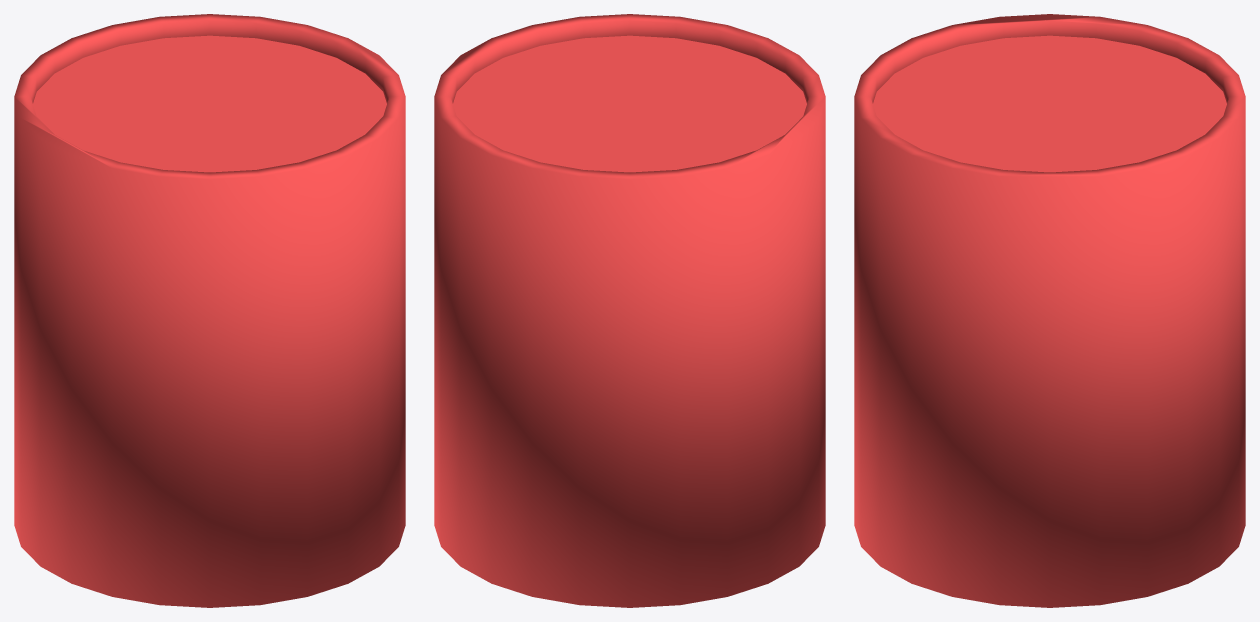
File: glass.dae
3 views of the same model, side by side, from view 1: azimuth 30°, elevation 25°; view 2: azimuth 150°, elevation 25°; view 3: azimuth 270°, elevation 25° (orthographic).
Visible parts, largest first — view 1: glass_of_soda (×3); view 2: glass_of_soda (×3); view 3: glass_of_soda (×3).
Part boxes in pixels (x1,y1,x2,y2): glass_of_soda (×3): [14, 14, 405, 607]; glass_of_soda (×3): [434, 14, 825, 607]; glass_of_soda (×3): [854, 14, 1245, 607].
Size of the model in its own units: 6 by 6 by 7.25.
